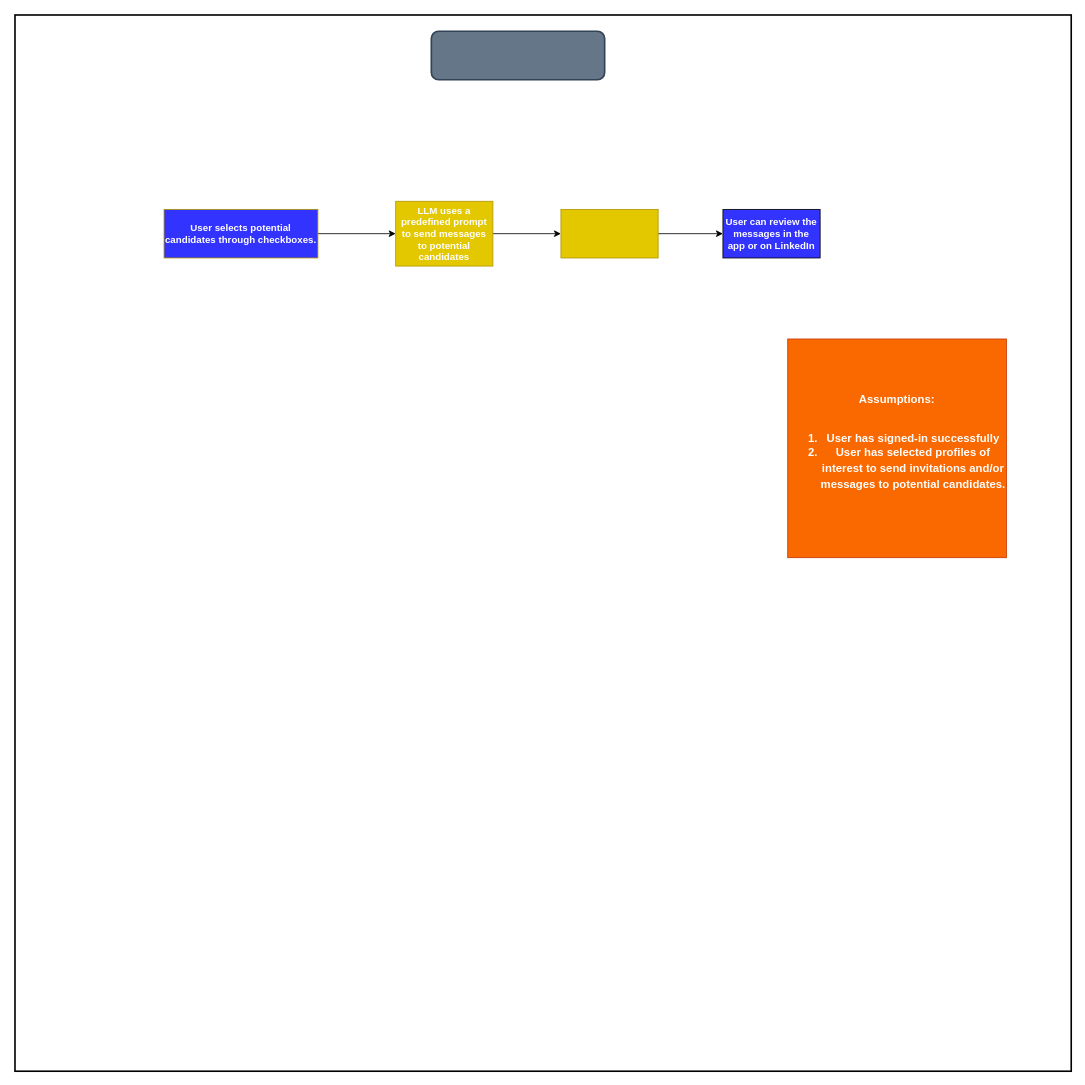
Some shapes in this 1085 by 1085 pixel diagram are drawn without their labels. The shapes that lost their labels are listed below. From the top down, each one's centre as x and y in pixels, then its label:
At (517,55): "Invitation and Messaging Workflow".
At (609,233): "Messages are sent to candidates".
